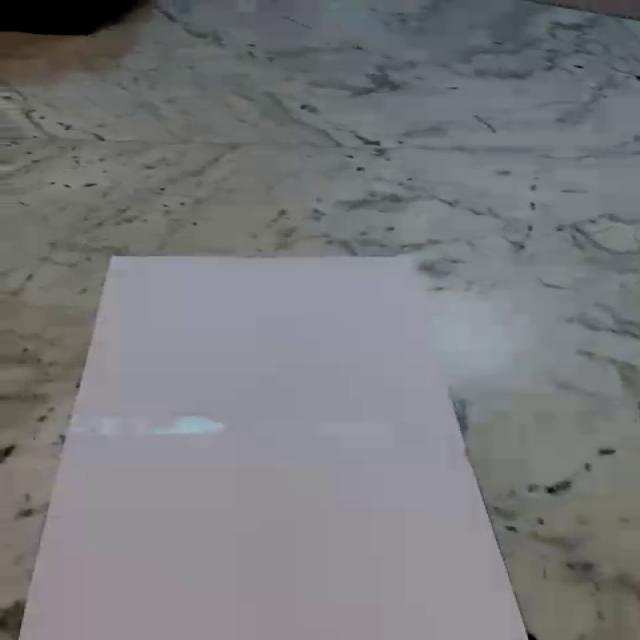road: (17, 255, 535, 640)
